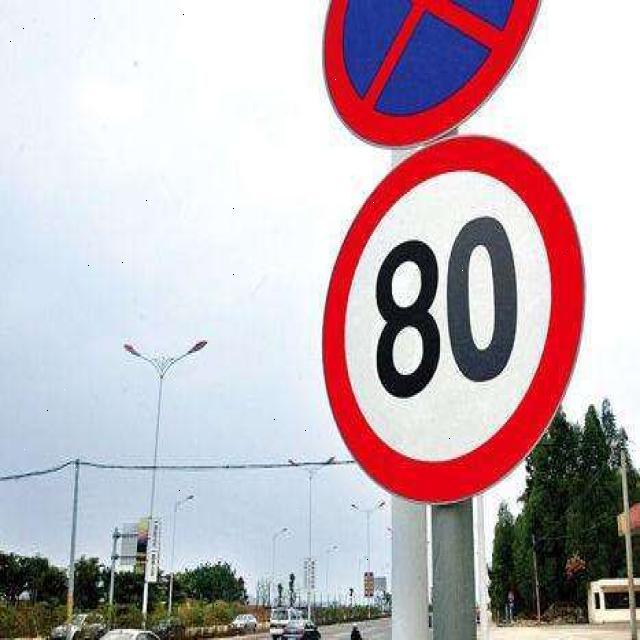speed limit 80: (319, 135, 586, 506)
